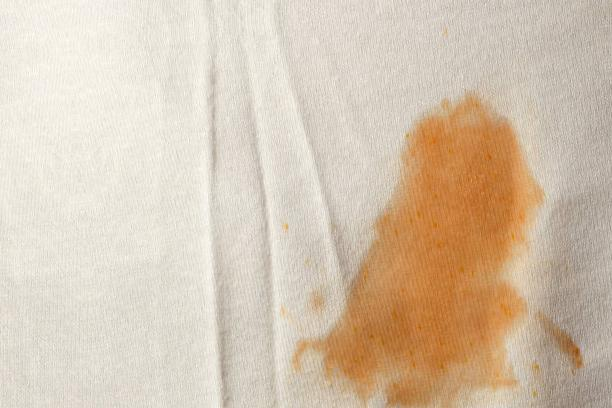stain: (288, 87, 537, 408), (532, 307, 589, 372)
